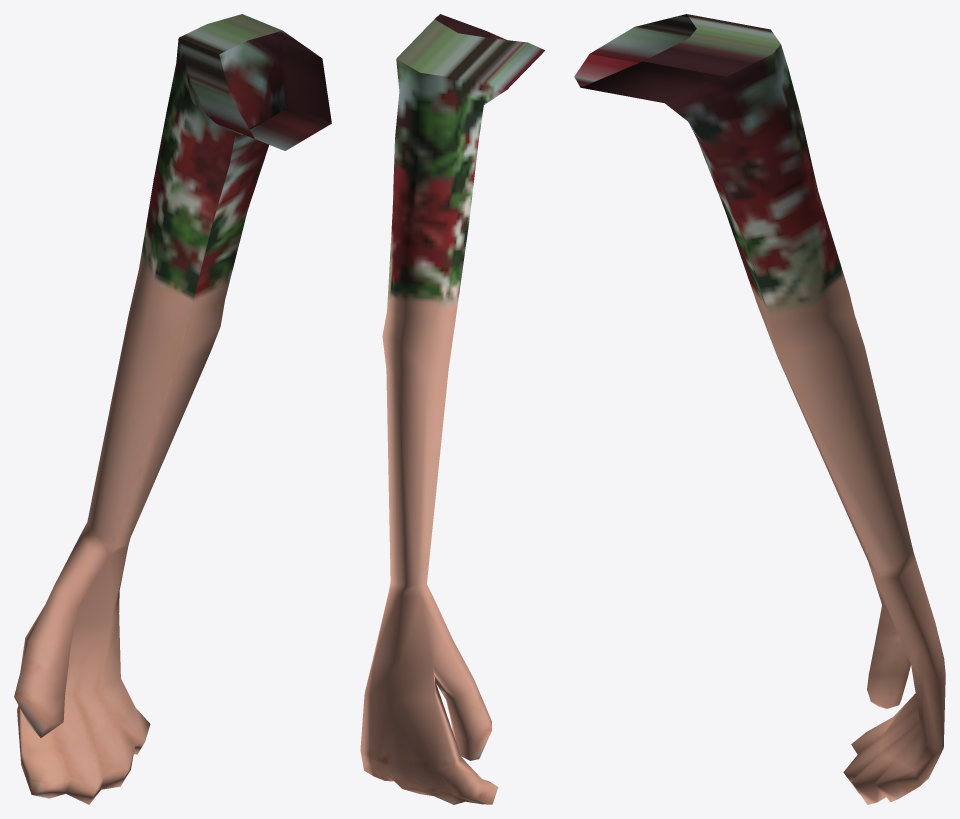
File: brazoDerecho.obj
3 views of the same model, side by side, from view 1: azimuth 30°, elevation 25°; view 2: azimuth 150°, elevation 25°; view 3: azimuth 270°, elevation 25° (orthographic). The views are drawn at different scales.
Visible parts, largest first — view 1: brazoDerecho1:brazo11; view 2: brazoDerecho1:brazo11; view 3: brazoDerecho1:brazo11.
Part boxes in pixels (box(x1,y1,x2,y2)): brazoDerecho1:brazo11: box(14, 14, 331, 804); brazoDerecho1:brazo11: box(360, 14, 544, 804); brazoDerecho1:brazo11: box(574, 14, 945, 804).
Bounding box in the file's own units: 0.4562 × 1.91 × 0.7933.
Materials: 1 (1 with a texture image).
